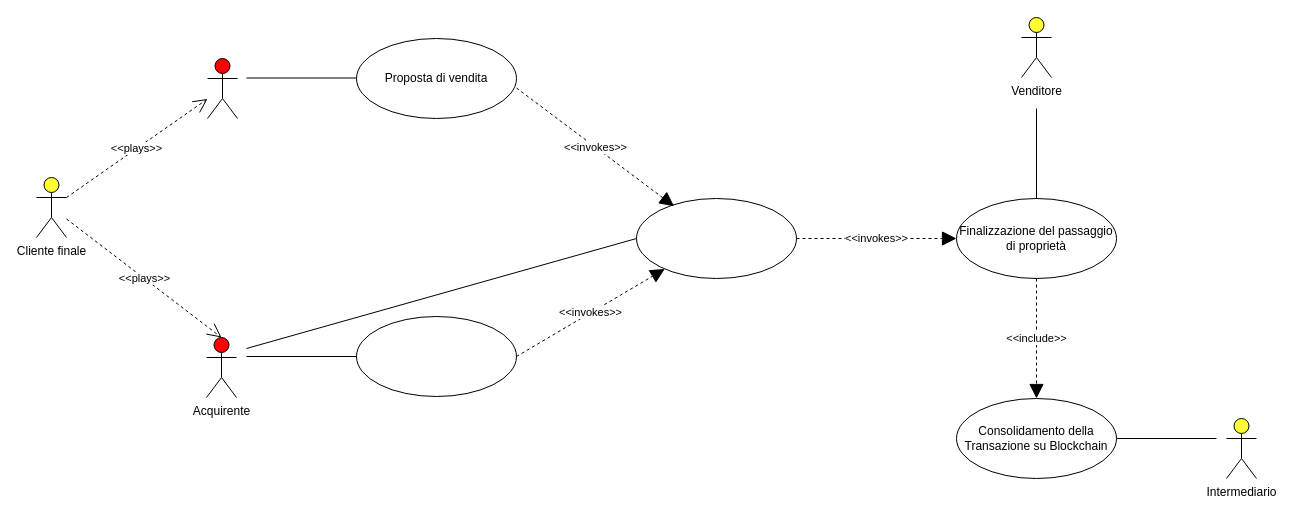
This 1294x517 diagram has some shape labels left out. Here are the shapes that lost their labels. From the top down, the centre of each, then its label:
At pixel 222 88: "Rivenditore di orologi usati".
At pixel 716 238: "Verifica autenticità dell'orologio".
At pixel 436 356: "Richiesta d'acquisto".
